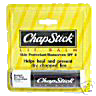grozi_33: (5, 4, 91, 92)
